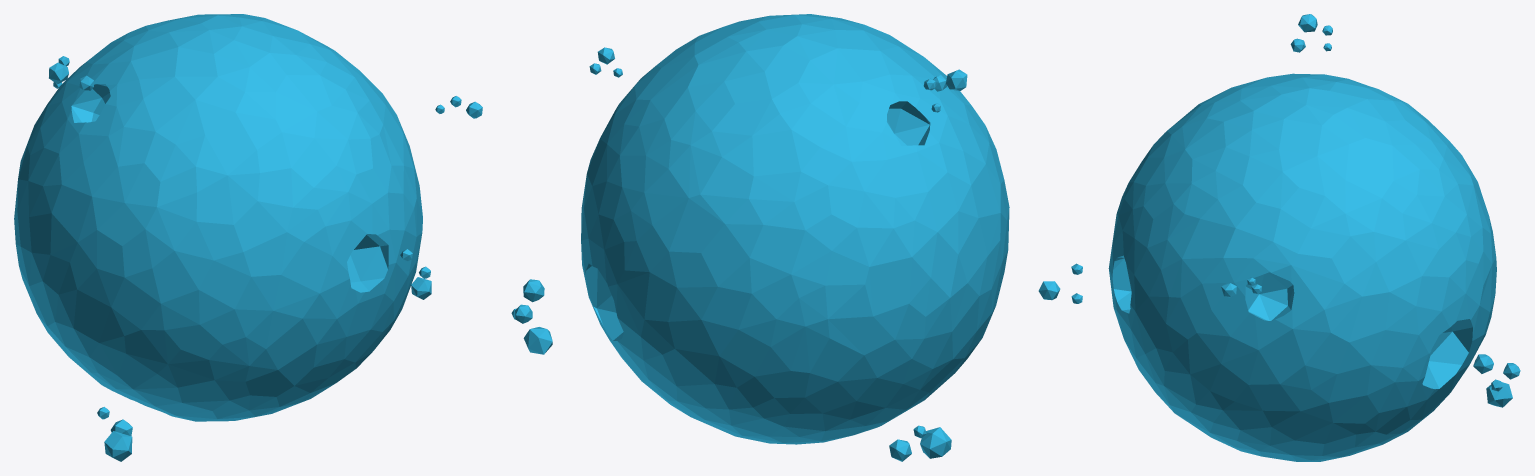
File: planet3.glb
The picture shows the model from 3 angles, left to right: view 1: azimuth 30°, elevation 25°; view 2: azimuth 150°, elevation 25°; view 3: azimuth 270°, elevation 25°; orthographic projection. The views are drawn at different scales.
Parts seen in each view (by area): view 1: Icosphere, Debree; view 2: Icosphere, Debree; view 3: Icosphere, Debree.
Boxes of the visible parts, x1=… form: Icosphere: x1=14, y1=14, x2=422, y2=421; Debree: x1=49, y1=56, x2=482, y2=461; Icosphere: x1=581, y1=14, x2=1009, y2=444; Debree: x1=511, y1=47, x2=967, y2=461; Icosphere: x1=1108, y1=73, x2=1496, y2=461; Debree: x1=1038, y1=14, x2=1520, y2=407.
Size of the model in its own units: 2.16 by 2.02 by 2.37.
